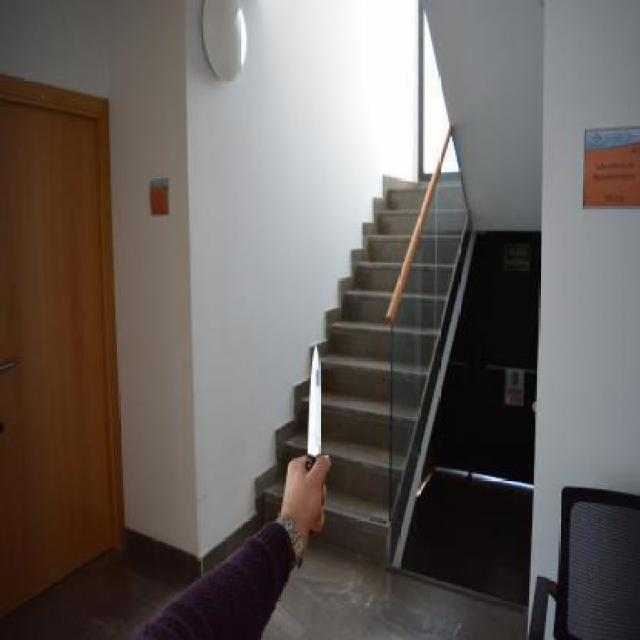-: (296, 338, 333, 480)
